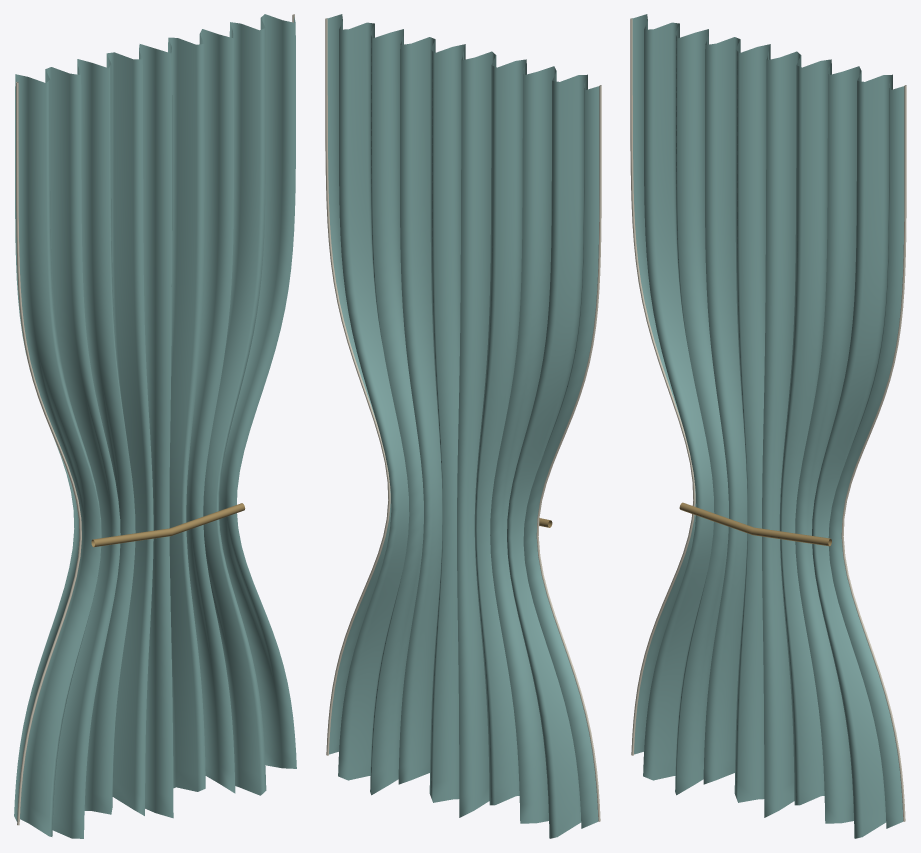
File: curtains-2.glb
3 renders of one model, left to right at view 1: azimuth 30°, elevation 25°; view 2: azimuth 150°, elevation 25°; view 3: azimuth 330°, elevation 25°, orthographic.
Visible parts, largest first — view 1: Curtain panel, Stitched hem, Gathering tie; view 2: Curtain panel, Stitched hem.001, Stitched hem; view 3: Curtain panel, Stitched hem, Stitched hem.001, Gathering tie.
Boxes of the visible parts, <box> form: Curtain panel: <box>14,14,296,838</box>; Stitched hem: <box>16,81,81,825</box>; Gathering tie: <box>91,503,245,547</box>; Curtain panel: <box>327,14,599,838</box>; Stitched hem.001: <box>325,18,390,755</box>; Stitched hem: <box>536,85,601,821</box>; Curtain panel: <box>632,14,904,838</box>; Stitched hem: <box>630,18,695,755</box>; Stitched hem.001: <box>841,85,906,821</box>; Gathering tie: <box>679,502,831,546</box>.
Bounding box in the file's own units: 0.4838 × 1.27 × 0.085.
